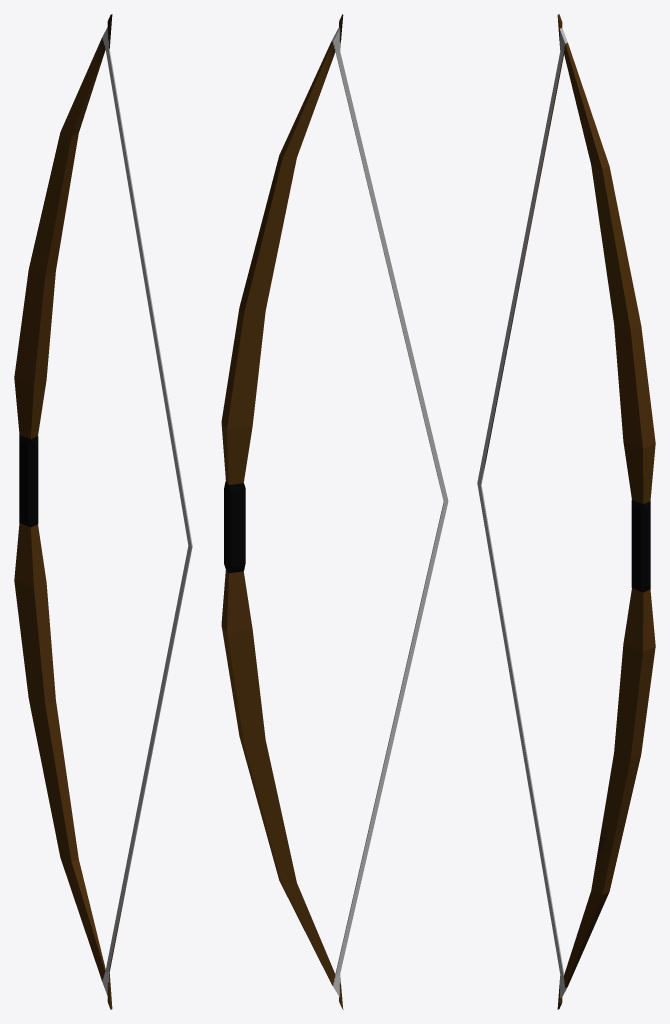
Rendered from Longbow.gltf.
The picture shows the model from 3 angles, left to right: view 1: azimuth 90°, elevation 25°; view 2: azimuth 150°, elevation 25°; view 3: azimuth 270°, elevation 25°; orthographic projection.
Parts seen in each view (by area): view 1: Longbow; view 2: Longbow; view 3: Longbow.
Part boxes in pixels (box(x1,y1,x2,y2)): Longbow: box(14, 14, 192, 1009); Longbow: box(221, 14, 448, 1009); Longbow: box(477, 14, 655, 1009).
Bounding box in the file's own units: 0.2275 × 1.5 × 0.243.
1 material, 1 textured.
